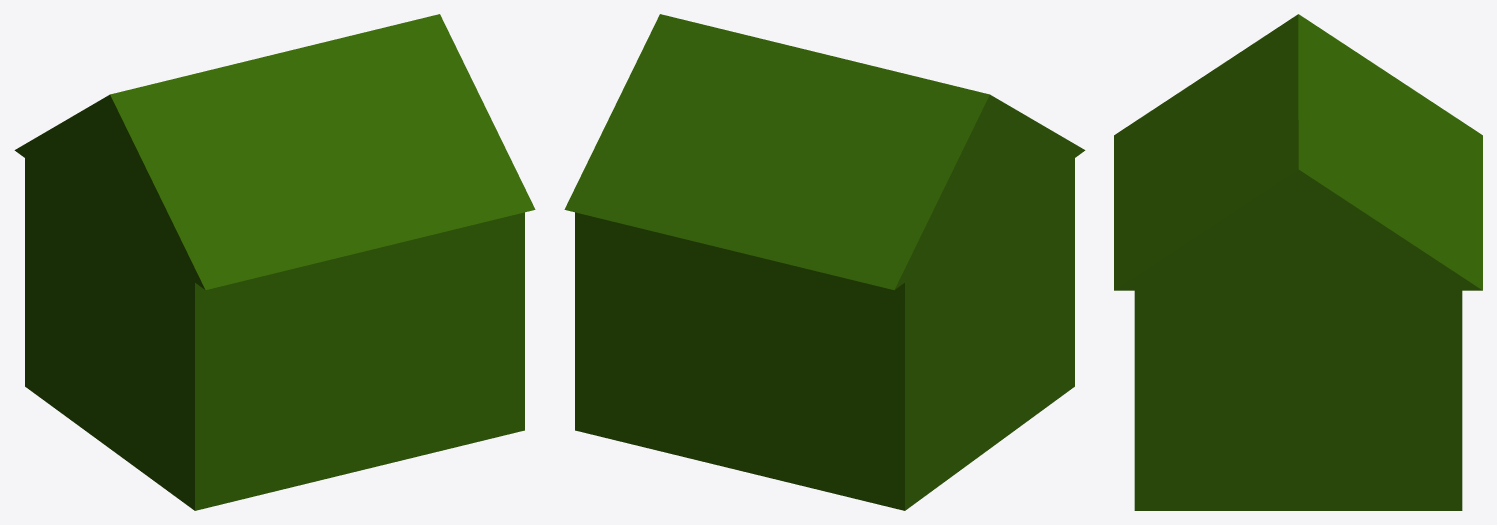
Rendered from Boardgame_Token_Property_Green_01.fbx.
3 renders of one model, left to right at view 1: azimuth 30°, elevation 25°; view 2: azimuth 150°, elevation 25°; view 3: azimuth 270°, elevation 25°, orthographic. The views are drawn at different scales.
Visible parts, largest first — view 1: Boardgame_Token_Property_Green_01; view 2: Boardgame_Token_Property_Green_01; view 3: Boardgame_Token_Property_Green_01.
Boxes of the visible parts, left/top/right/bottom form: Boardgame_Token_Property_Green_01: left=14, top=14, right=535, bottom=510; Boardgame_Token_Property_Green_01: left=564, top=14, right=1085, bottom=510; Boardgame_Token_Property_Green_01: left=1114, top=14, right=1482, bottom=510.
Bounding box in the file's own units: 27.33 × 28.04 × 27.43.
